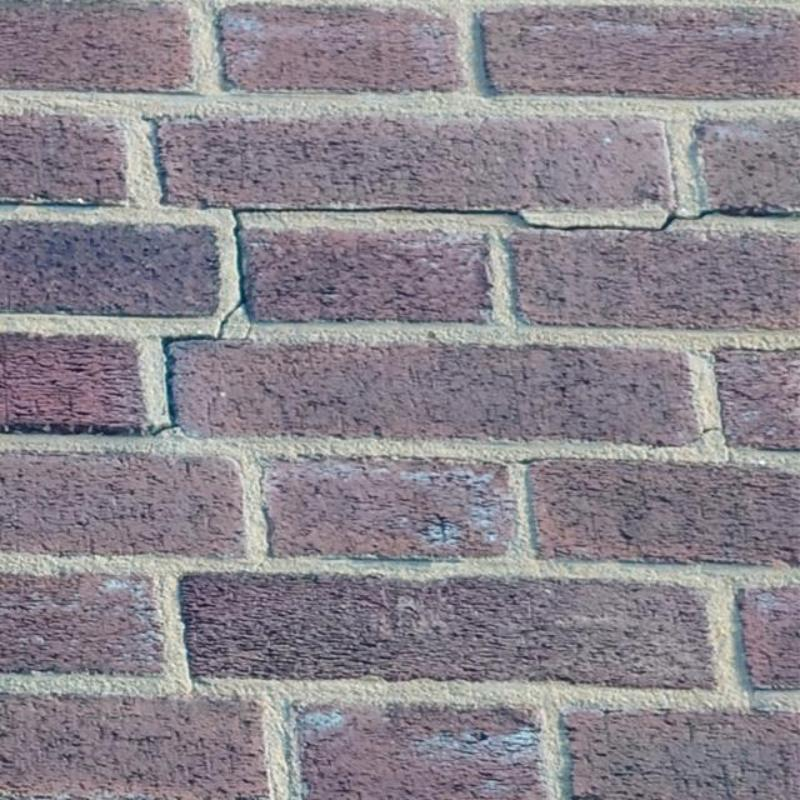pothole: (152, 208, 800, 437), (222, 317, 254, 349)
